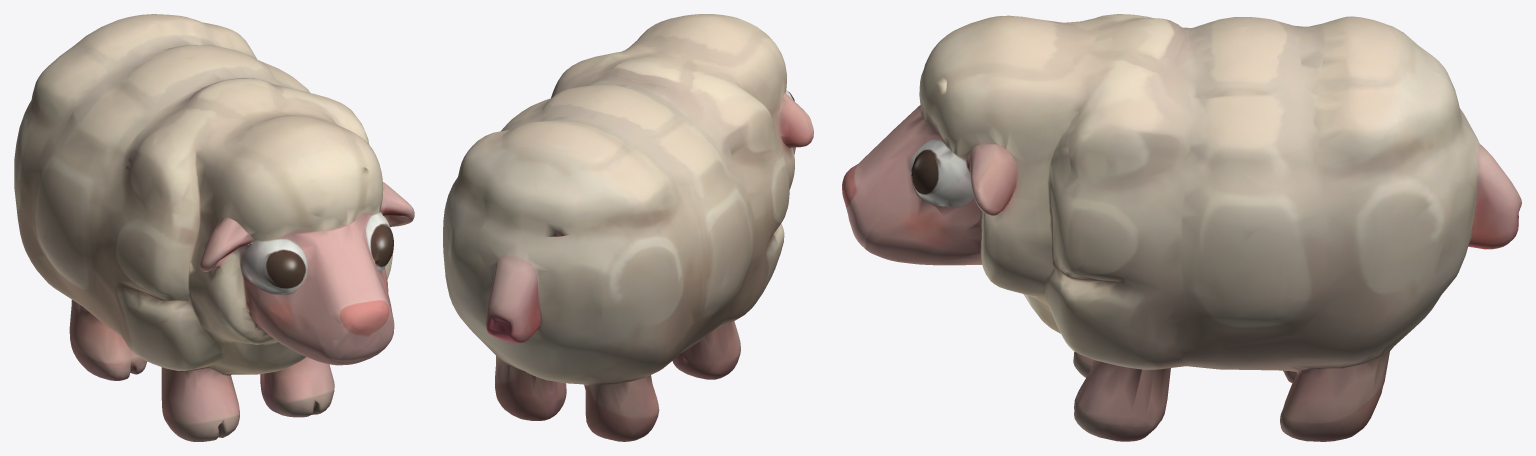
Rendered from Sheep.fbx.
The picture shows the model from 3 angles, left to right: view 1: azimuth 30°, elevation 25°; view 2: azimuth 150°, elevation 25°; view 3: azimuth 270°, elevation 25°; orthographic projection. The views are drawn at different scales.
Parts seen in each view (by area): view 1: Mesh_0; view 2: Mesh_0; view 3: Mesh_0.
Part boxes in pixels (bbox=[...]): Mesh_0: bbox=[14, 14, 414, 441]; Mesh_0: bbox=[443, 14, 813, 441]; Mesh_0: bbox=[842, 14, 1521, 441].
Size of the model in its own units: 107 by 123 by 200.
Materials: 1 (1 with a texture image).
